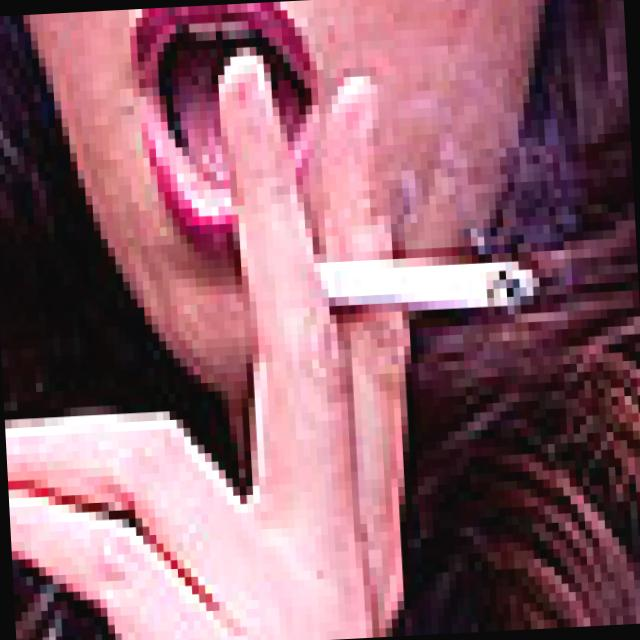cigarette: (268, 225, 562, 348)
